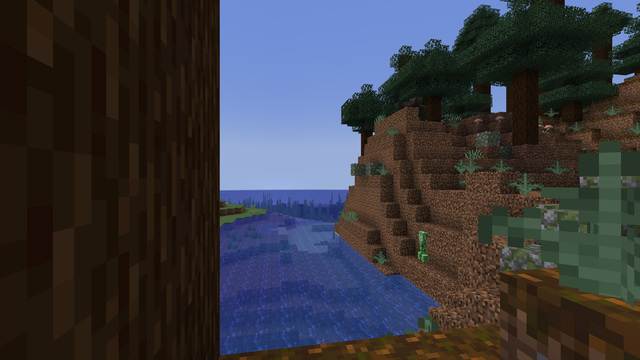araignees: (398, 96, 424, 111)
creepers: (417, 229, 427, 261)
